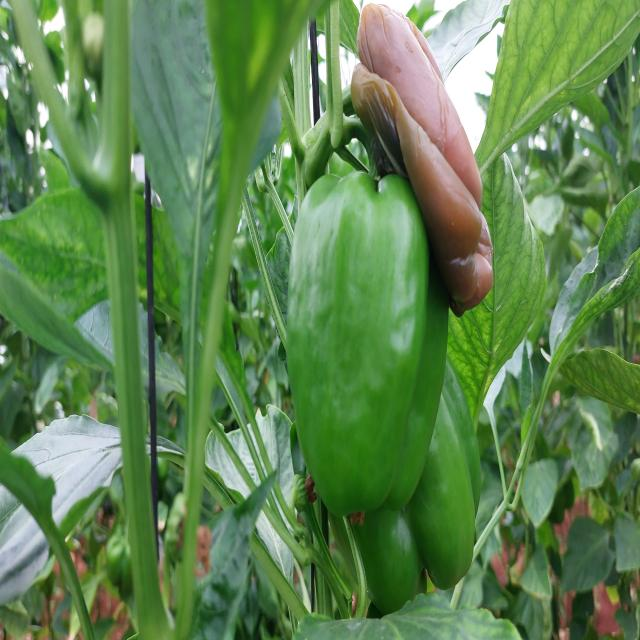Green--Not-ready-to-harvest: (286, 170, 444, 506), (322, 356, 485, 613)
